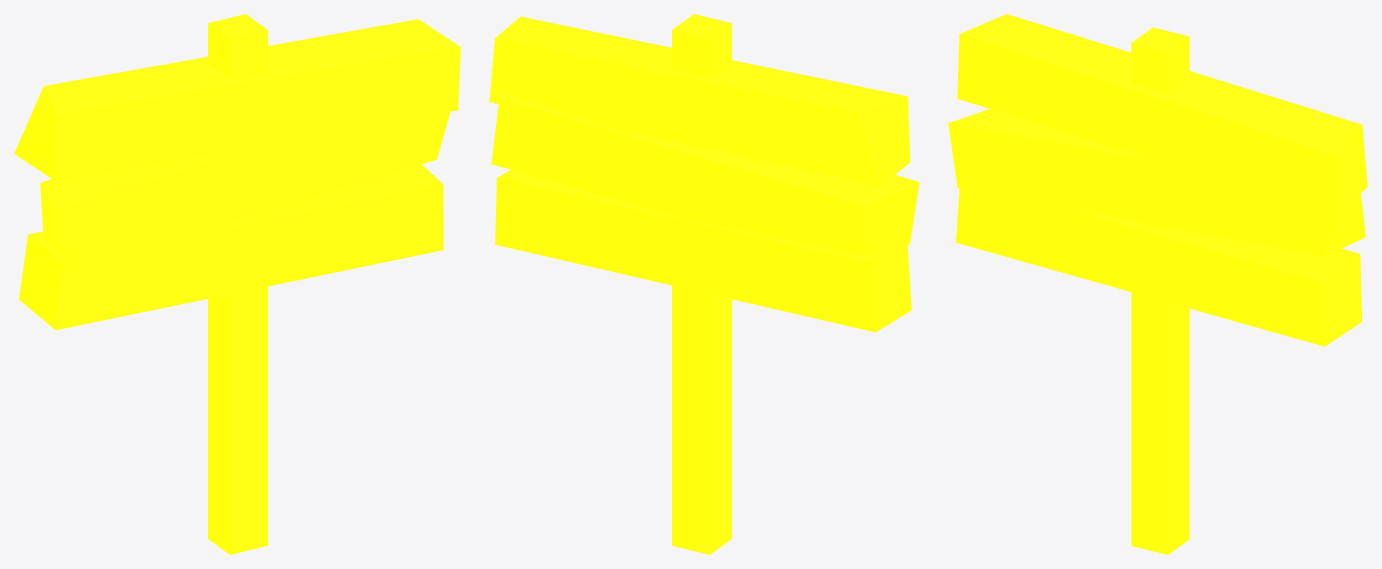
Rendered from sign_outline.fbx.
The picture shows the model from 3 angles, left to right: view 1: azimuth 30°, elevation 25°; view 2: azimuth 150°, elevation 25°; view 3: azimuth 330°, elevation 25°; orthographic projection. The views are drawn at different scales.
Parts seen in each view (by area): view 1: Cube; view 2: Cube; view 3: Cube.
Part boxes in pixels (x1,y1,x2,y2): Cube: (14, 14, 460, 554); Cube: (489, 14, 919, 554); Cube: (948, 14, 1367, 554).
Bounding box in the file's own units: 226 × 274 × 41.76.
